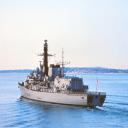Fragata: (19, 39, 108, 110)
